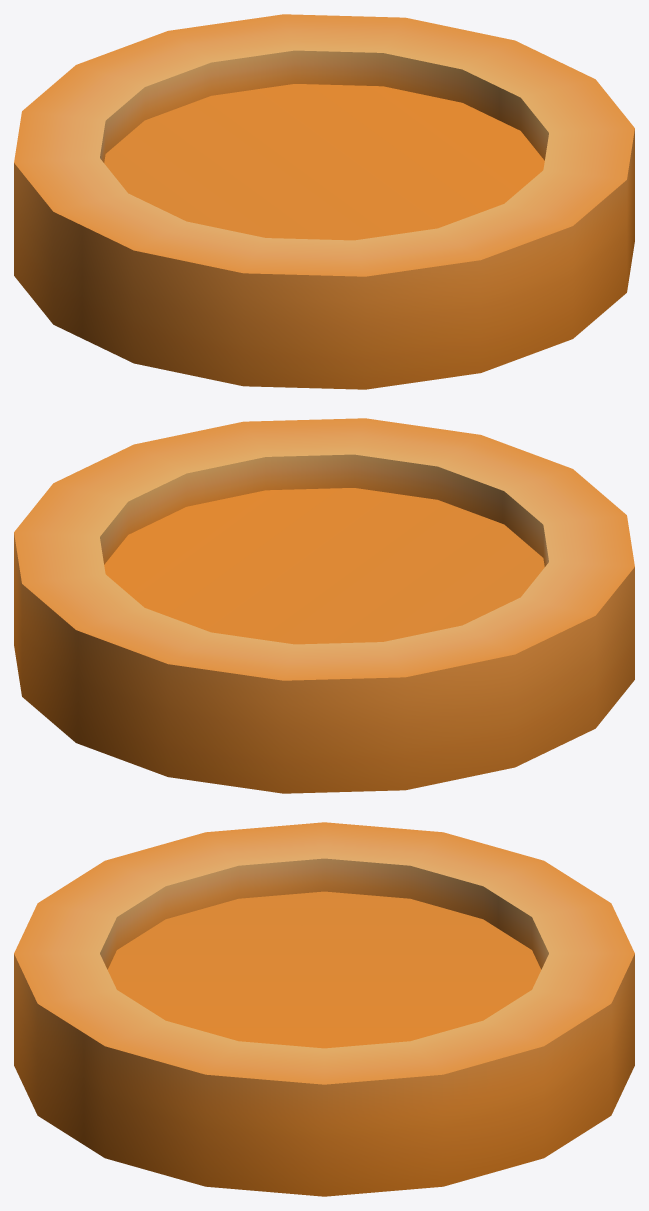
The model's file is Gold Coin1.fbx.
The picture shows the model from 3 angles, top to bottom: view 1: azimuth 30°, elevation 25°; view 2: azimuth 150°, elevation 25°; view 3: azimuth 270°, elevation 25°; orthographic projection.
Parts seen in each view (by area): view 1: Cylinder.002; view 2: Cylinder.002; view 3: Cylinder.002.
Part boxes in pixels (bbox=[...]): Cylinder.002: bbox=[14, 14, 634, 389]; Cylinder.002: bbox=[14, 418, 634, 793]; Cylinder.002: bbox=[14, 822, 634, 1196].
Bounding box in the file's own units: 40.61 × 8.08 × 40.61.
